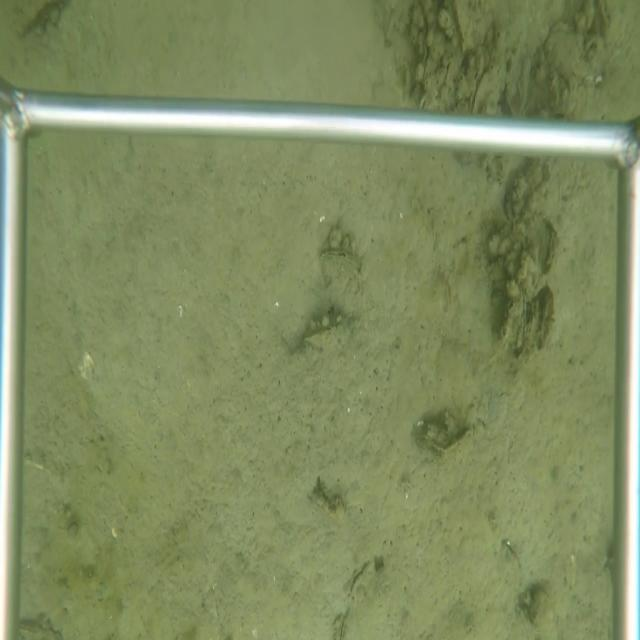Oyster-Closed: (414, 421, 481, 466), (318, 250, 365, 293), (469, 68, 496, 112), (513, 291, 528, 359)
